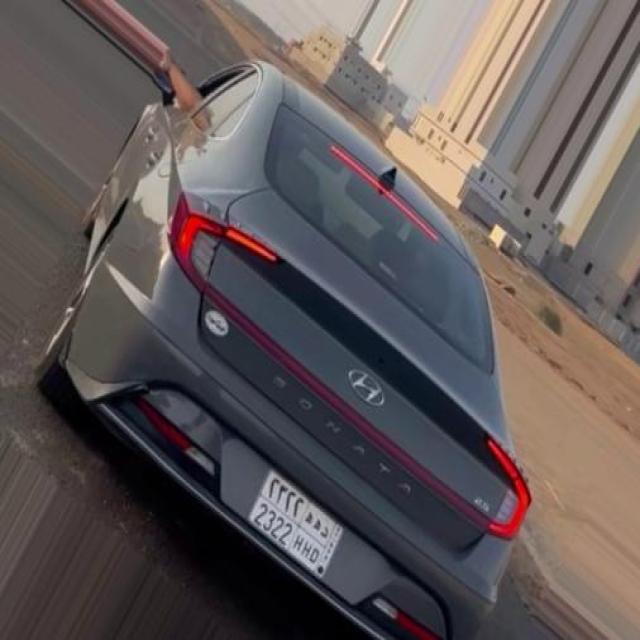Car-plate: (231, 465, 350, 585)
